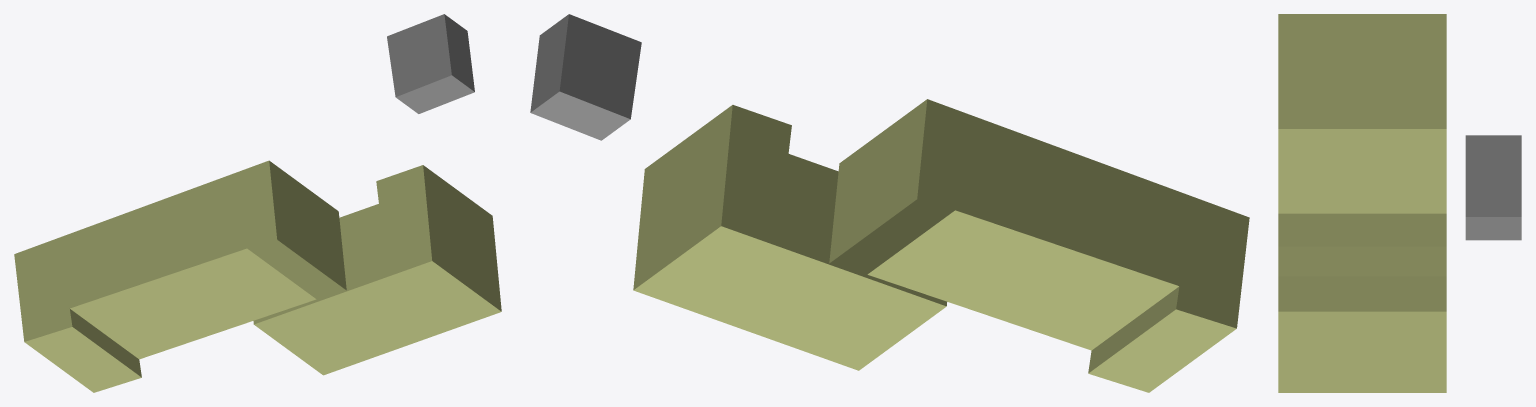
3 views of the same model, side by side, from view 1: azimuth 30°, elevation 25°; view 2: azimuth 150°, elevation 25°; view 3: azimuth 270°, elevation 25° (orthographic). The views are drawn at different scales.
Visible parts, largest first — view 1: 0_0_3_2_1_0_1_3_0; view 2: 0_0_3_2_1_0_1_3_0; view 3: 0_0_3_2_1_0_1_3_0.
Part boxes in pixels (x1=…): 0_0_3_2_1_0_1_3_0: x1=14, y1=14, x2=501, y2=392; 0_0_3_2_1_0_1_3_0: x1=530, y1=14, x2=1249, y2=392; 0_0_3_2_1_0_1_3_0: x1=1278, y1=14, x2=1521, y2=392.
Bounding box in the file's own units: 35.01 × 16.7 × 13.
